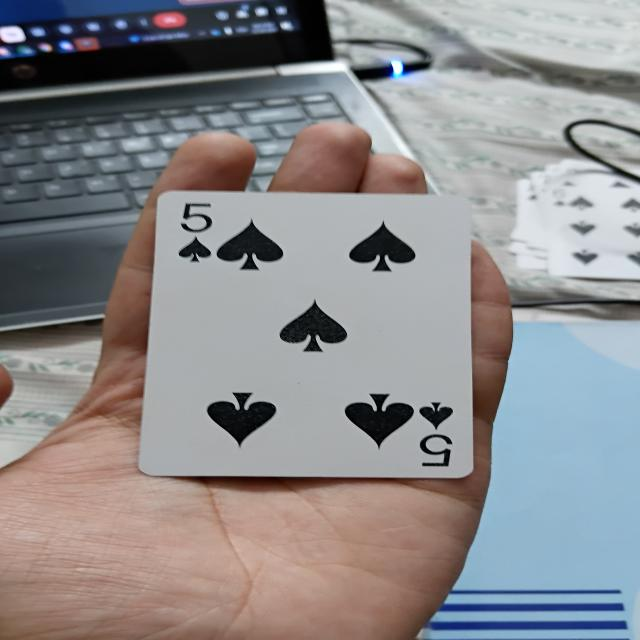5S: (159, 193, 468, 480)
